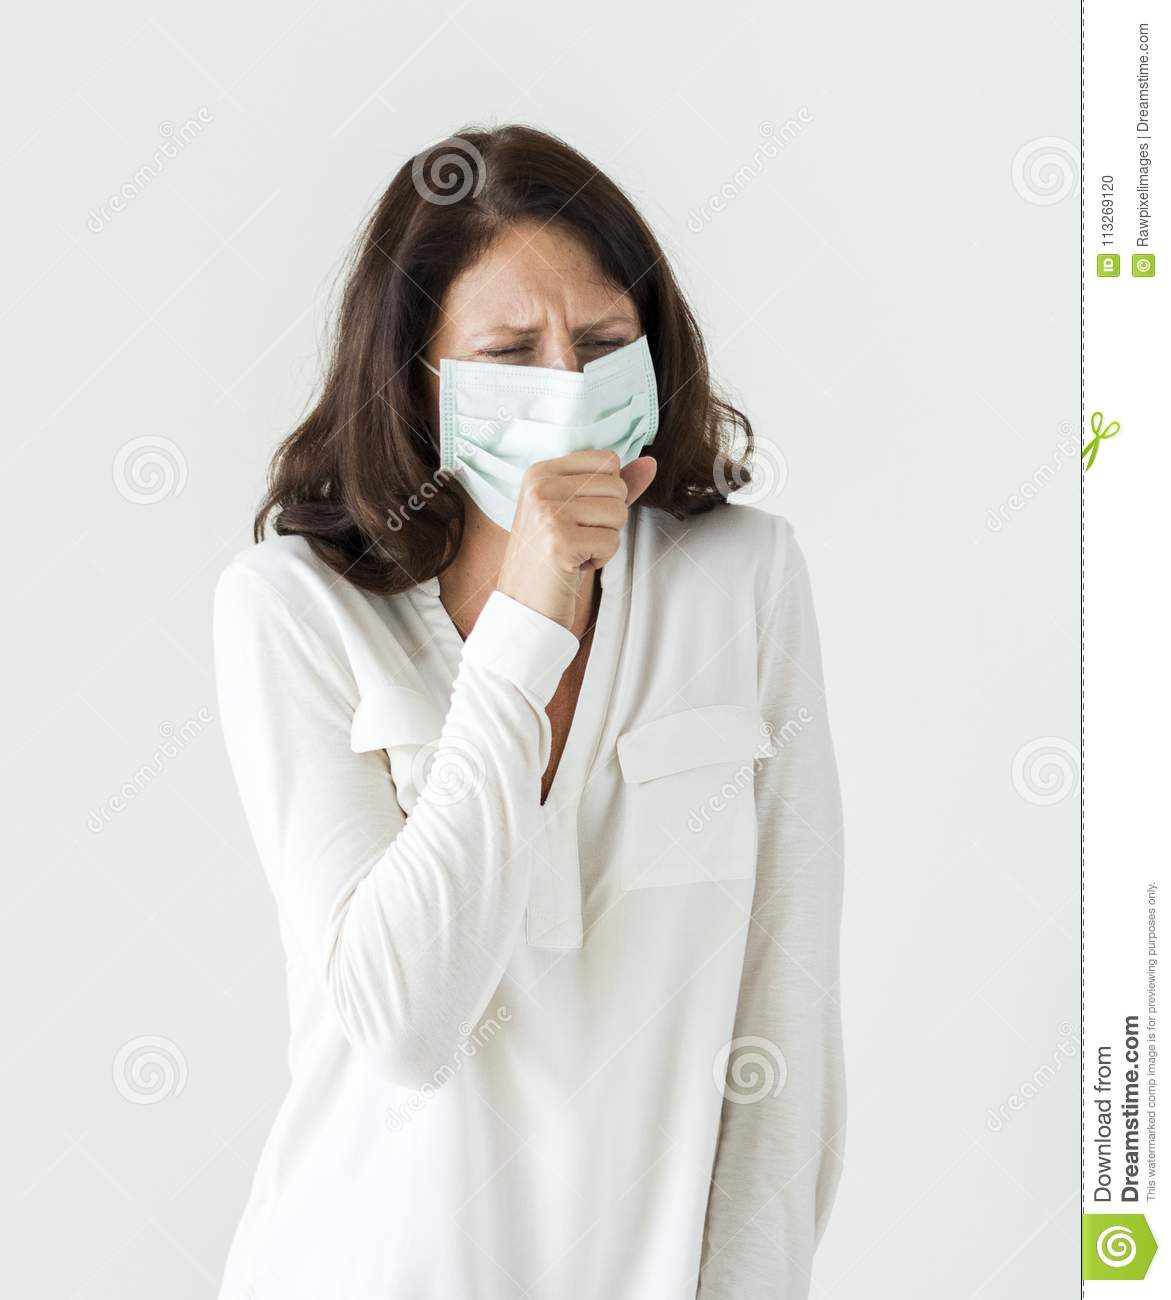mask: (435, 346, 668, 547)
